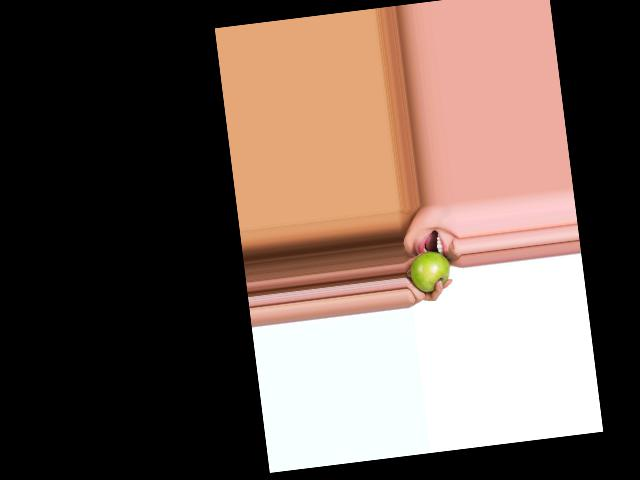apple: (408, 247, 453, 295)
